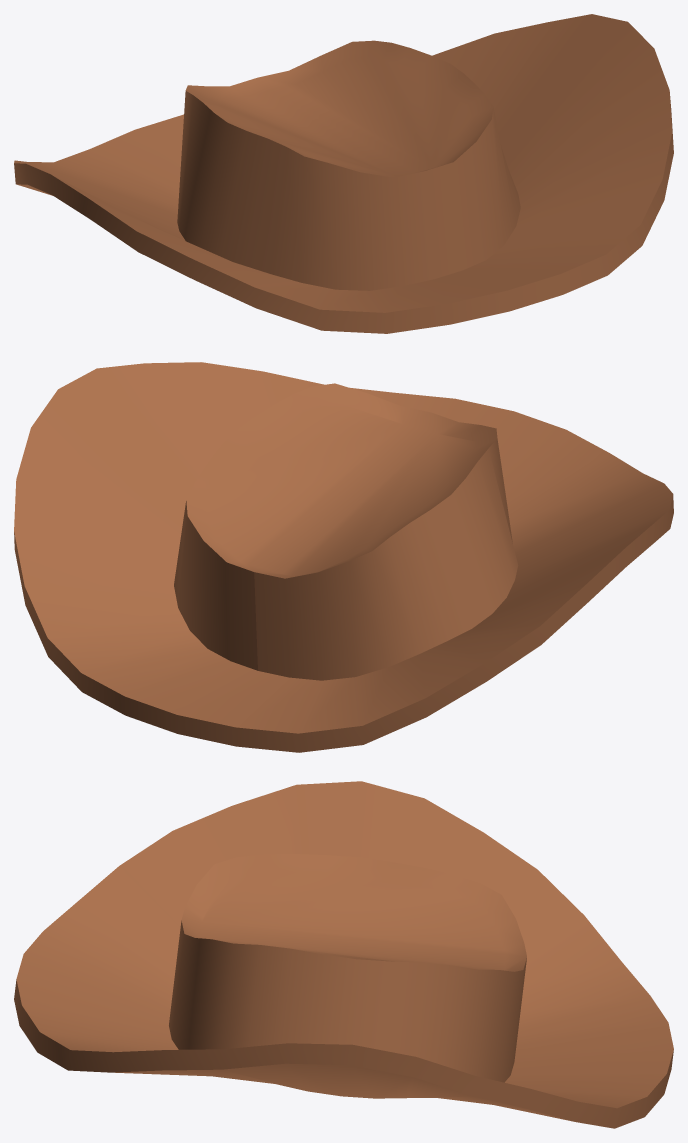
File: cowboy_hat.fbx
3 renders of one model, top to bottom at view 1: azimuth 30°, elevation 25°; view 2: azimuth 150°, elevation 25°; view 3: azimuth 270°, elevation 25°, orthographic.
Parts seen in each view (by area): view 1: cowboy hat; view 2: cowboy hat; view 3: cowboy hat.
Part boxes in pixels (x1,y1,x2,y2): cowboy hat: (14,14,673,333); cowboy hat: (14,362,673,752); cowboy hat: (14,781,673,1128).
Size of the model in its own units: 114 by 32.21 by 114.
